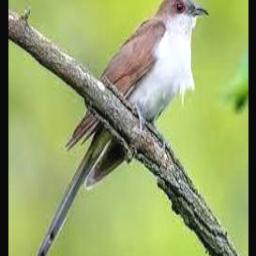Cuckoo: (32, 0, 208, 256)
